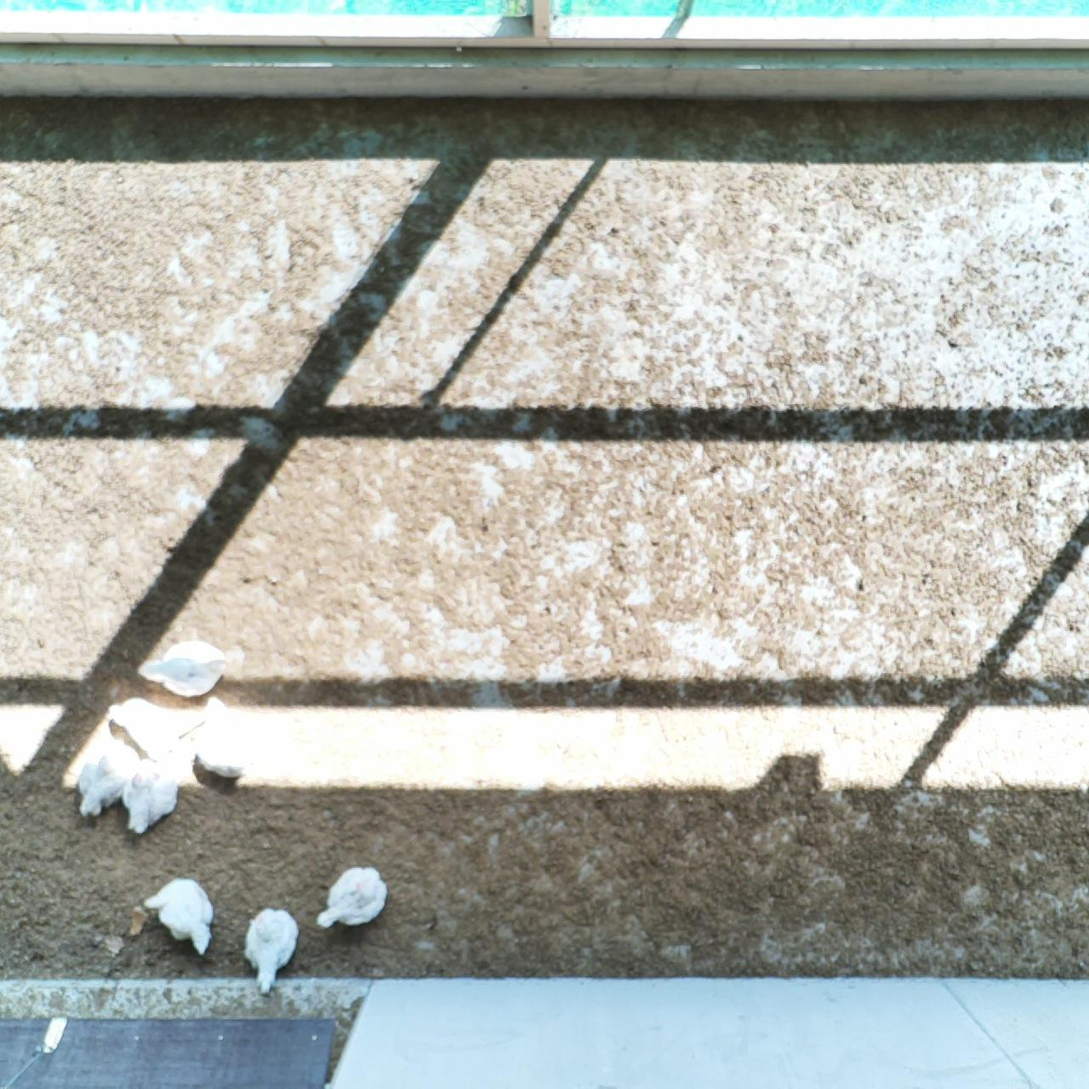chicken: (314, 859, 388, 939), (136, 638, 231, 698), (144, 876, 214, 954), (192, 694, 249, 781), (109, 697, 184, 763), (244, 905, 299, 993), (120, 754, 177, 833), (77, 748, 128, 818)
